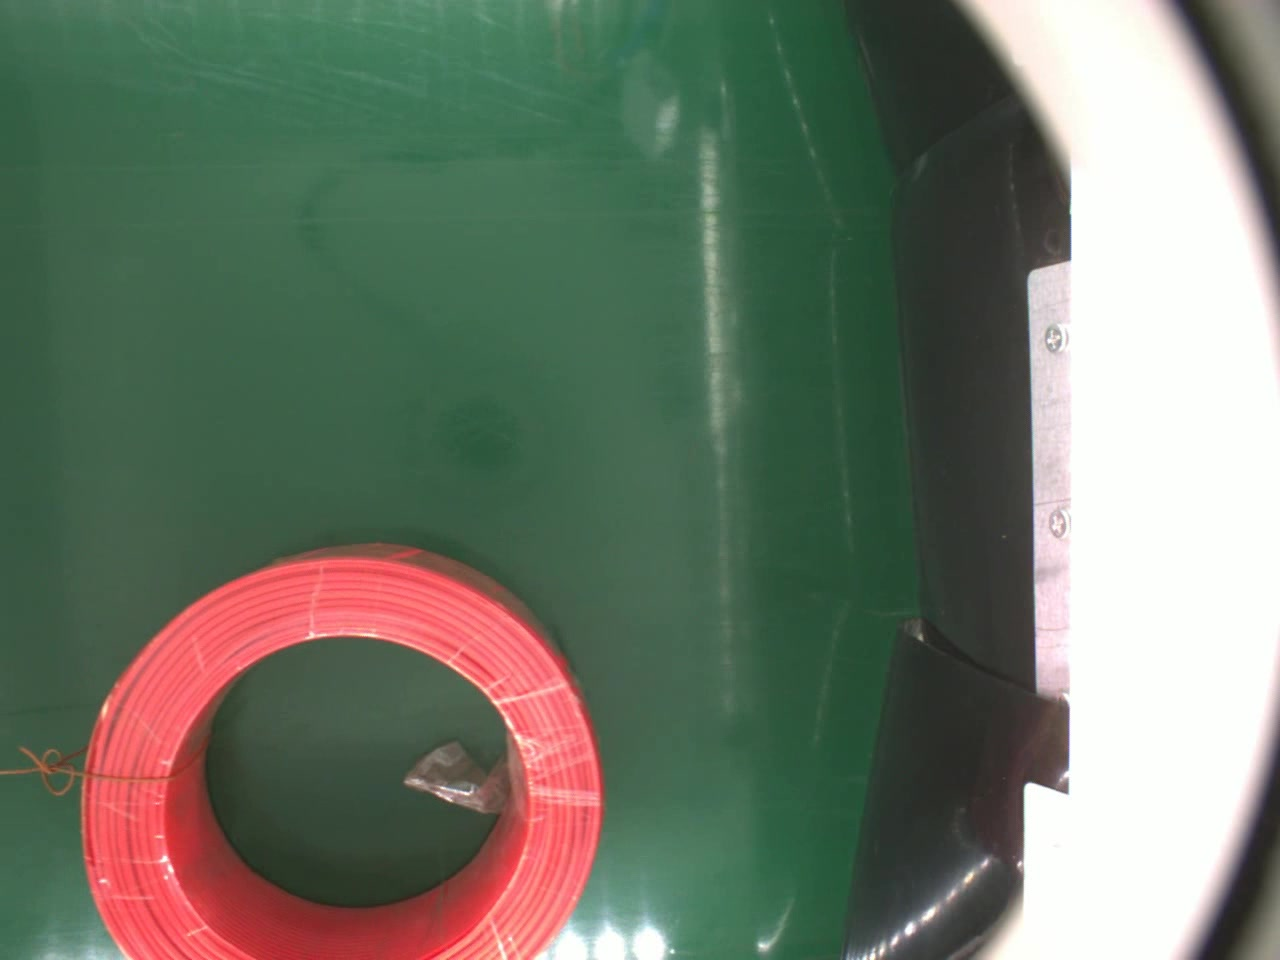red: (77, 534, 607, 960)
